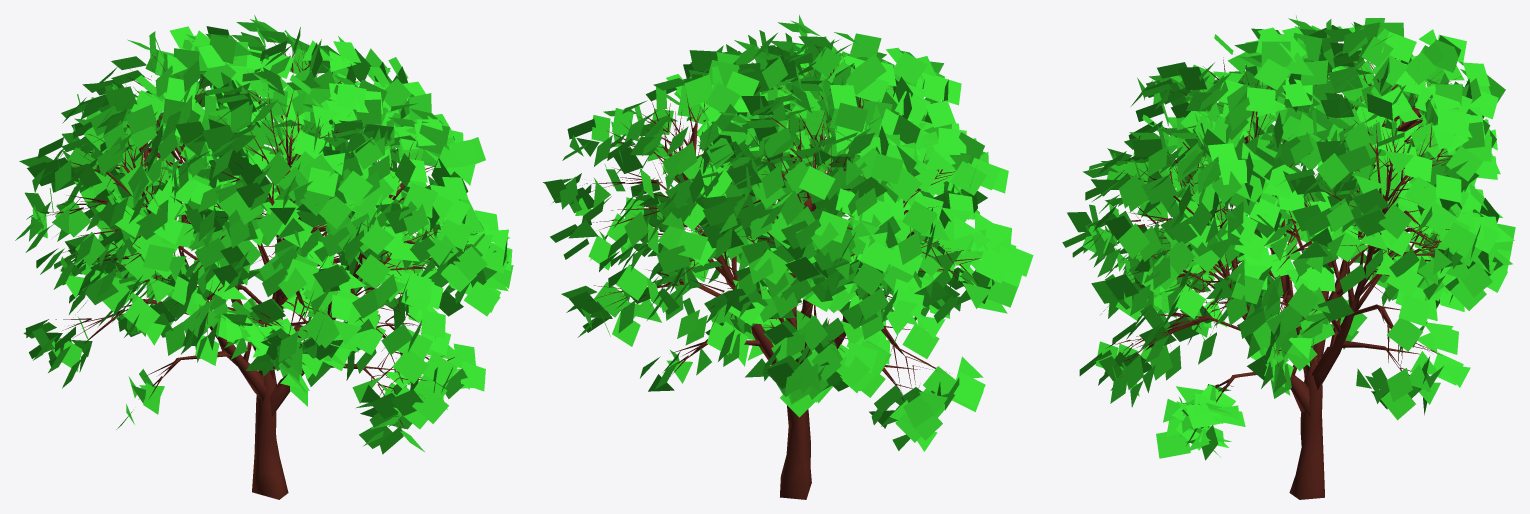
File: Tree01.fbx
3 views of the same model, side by side, from view 1: azimuth 30°, elevation 25°; view 2: azimuth 150°, elevation 25°; view 3: azimuth 270°, elevation 25° (orthographic).
Parts seen in each view (by area): view 1: leaftip4; view 2: leaftip4; view 3: leaftip4.
Boxes of the visible parts, x1,y1,x2,y2 form: leaftip4: [15, 15, 513, 499]; leaftip4: [543, 14, 1033, 499]; leaftip4: [1062, 15, 1515, 499].
Bounding box in the file's own units: 518 × 526 × 479.
